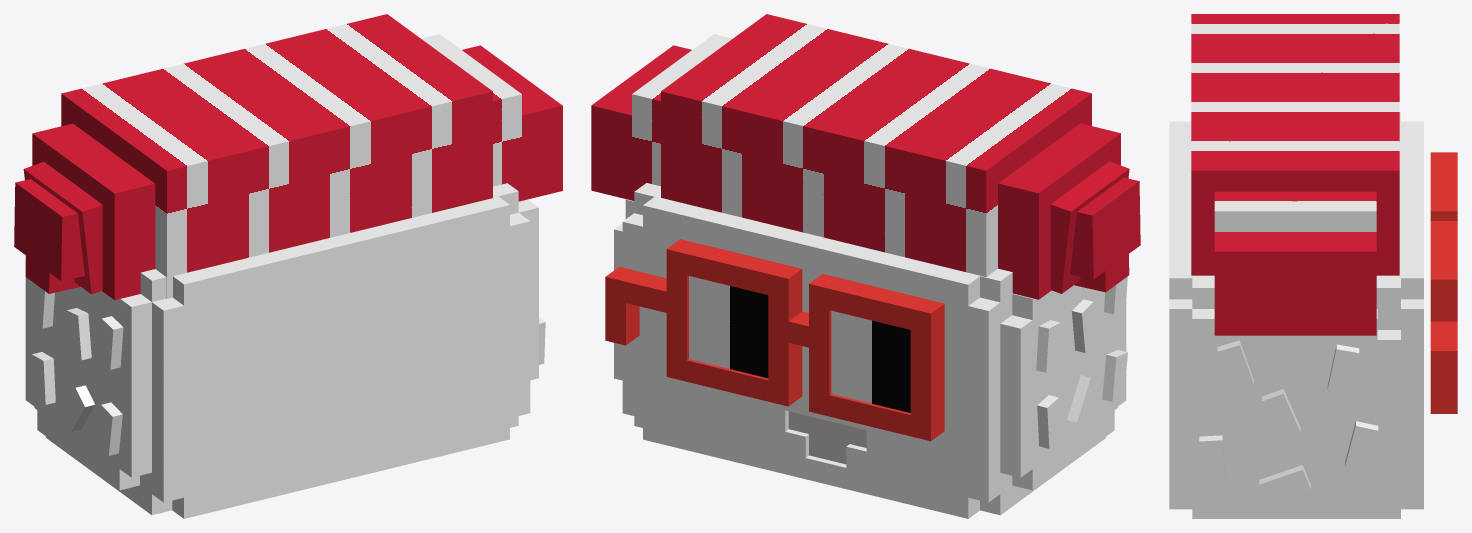
File: Fatty-tuna.gltf
3 views of the same model, side by side, from view 1: azimuth 30°, elevation 25°; view 2: azimuth 150°, elevation 25°; view 3: azimuth 270°, elevation 25° (orthographic).
Parts seen in each view (by area): view 1: sushi-Local, fatty-tuna-Local, end-left-Local, extra-3-Local, dd$$(6)-Local, aa$$(6)-Local, qq$$(6)-Local, ss$$(6)-Local, ii$$(6)-Local, yy$$(6)-Local; view 2: fatty-tuna-Local, sushi-Local, layer-1-Local, layer-2-Local, end-left-Local, extra-3-Local, mouth-Local, yy$$(6)-Local, ss$$(6)-Local, dd$$(6)-Local, aa$$(6)-Local, ii$$(6)-Local (+1 smaller); view 3: fatty-tuna-Local, sushi-Local, layer-1-Local, layer-2-Local, uu$$(6)-Local, ff$$(7)-Local, aa$$(7)-Local, ww$$(7)-Local, zz$$(7)-Local, oo$$(7)-Local.
Boxes of the visible parts, x1=… form: sushi-Local: x1=25, y1=183, x2=538, y2=518; fatty-tuna-Local: x1=32, y1=14, x2=562, y2=300; end-left-Local: x1=14, y1=179, x2=84, y2=293; extra-3-Local: x1=23, y1=161, x2=102, y2=294; dd$$(6)-Local: x1=32, y1=352, x2=55, y2=404; aa$$(6)-Local: x1=66, y1=308, x2=91, y2=360; qq$$(6)-Local: x1=98, y1=316, x2=123, y2=369; ss$$(6)-Local: x1=97, y1=402, x2=122, y2=455; ii$$(6)-Local: x1=62, y1=385, x2=94, y2=431; yy$$(6)-Local: x1=31, y1=283, x2=54, y2=328; fatty-tuna-Local: x1=591, y1=14, x2=1120, y2=299; sushi-Local: x1=614, y1=183, x2=1126, y2=518; layer-1-Local: x1=605, y1=240, x2=942, y2=441; layer-2-Local: x1=608, y1=239, x2=944, y2=432; end-left-Local: x1=1070, y1=177, x2=1140, y2=292; extra-3-Local: x1=1050, y1=161, x2=1129, y2=293; mouth-Local: x1=788, y1=411, x2=866, y2=464; yy$$(6)-Local: x1=1036, y1=320, x2=1060, y2=372; ss$$(6)-Local: x1=1102, y1=350, x2=1127, y2=401; dd$$(6)-Local: x1=1037, y1=395, x2=1060, y2=448; aa$$(6)-Local: x1=1071, y1=299, x2=1096, y2=352; ii$$(6)-Local: x1=1067, y1=375, x2=1100, y2=427; fatty-tuna-Local: x1=1191, y1=14, x2=1399, y2=335; sushi-Local: x1=1169, y1=112, x2=1423, y2=518; layer-1-Local: x1=1434, y1=152, x2=1457, y2=413; layer-2-Local: x1=1430, y1=152, x2=1453, y2=413; uu$$(6)-Local: x1=1259, y1=465, x2=1310, y2=504; ff$$(7)-Local: x1=1262, y1=389, x2=1300, y2=440; aa$$(7)-Local: x1=1217, y1=340, x2=1253, y2=391; ww$$(7)-Local: x1=1345, y1=421, x2=1378, y2=471; zz$$(7)-Local: x1=1327, y1=344, x2=1359, y2=394; oo$$(7)-Local: x1=1199, y1=435, x2=1225, y2=483.
Size of the model in its own units: 23.81 by 16 by 12.45.
Materials: 20 (20 with a texture image).
